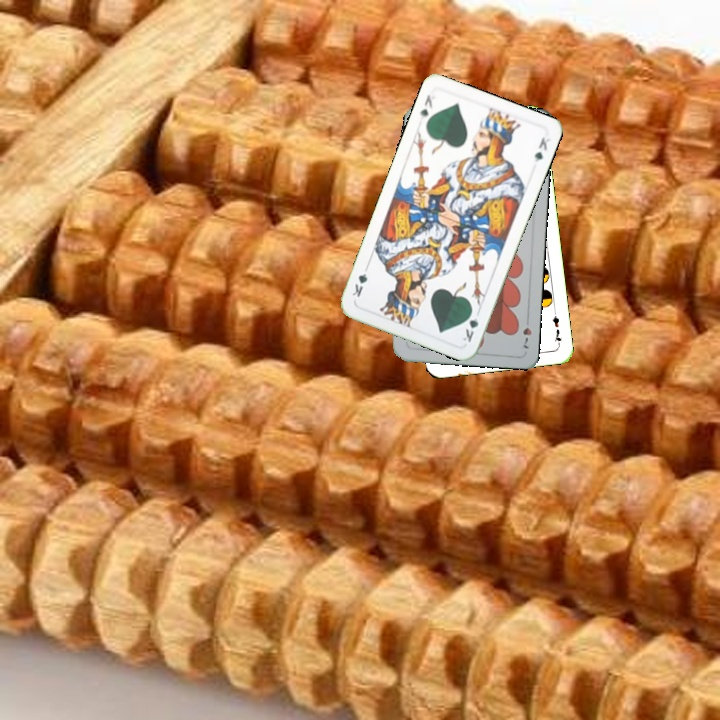E7: (548, 307, 564, 348)
GK: (458, 305, 481, 345), (416, 91, 435, 123)
H7: (519, 323, 534, 351)
